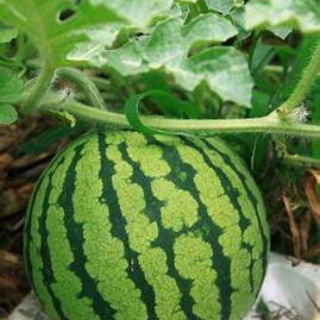dua_hau: (20, 123, 271, 320)
